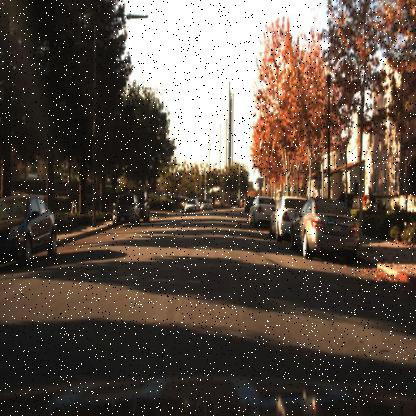car: (289, 193, 366, 264), (0, 193, 58, 268), (106, 189, 142, 231), (269, 193, 298, 244), (109, 194, 140, 230), (249, 190, 273, 234), (246, 194, 275, 224), (136, 184, 152, 228), (139, 184, 152, 226), (183, 196, 201, 217), (200, 194, 216, 215), (242, 192, 256, 213)
